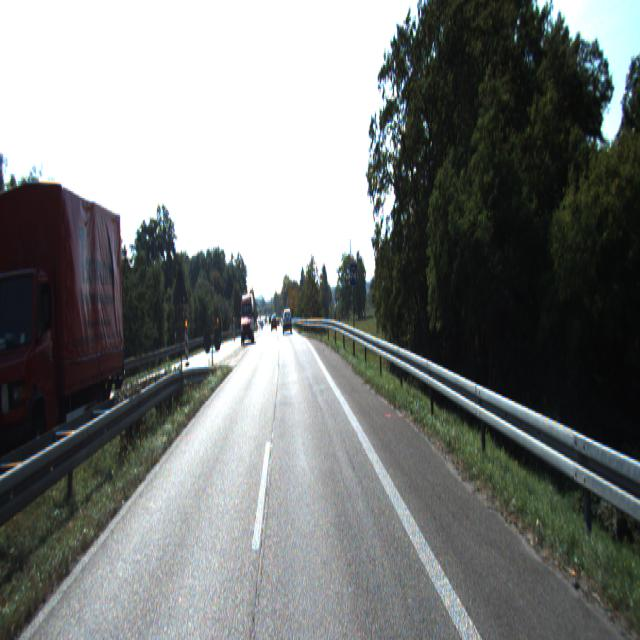Car: (0, 155, 133, 487), (240, 294, 256, 348), (284, 310, 292, 334)
